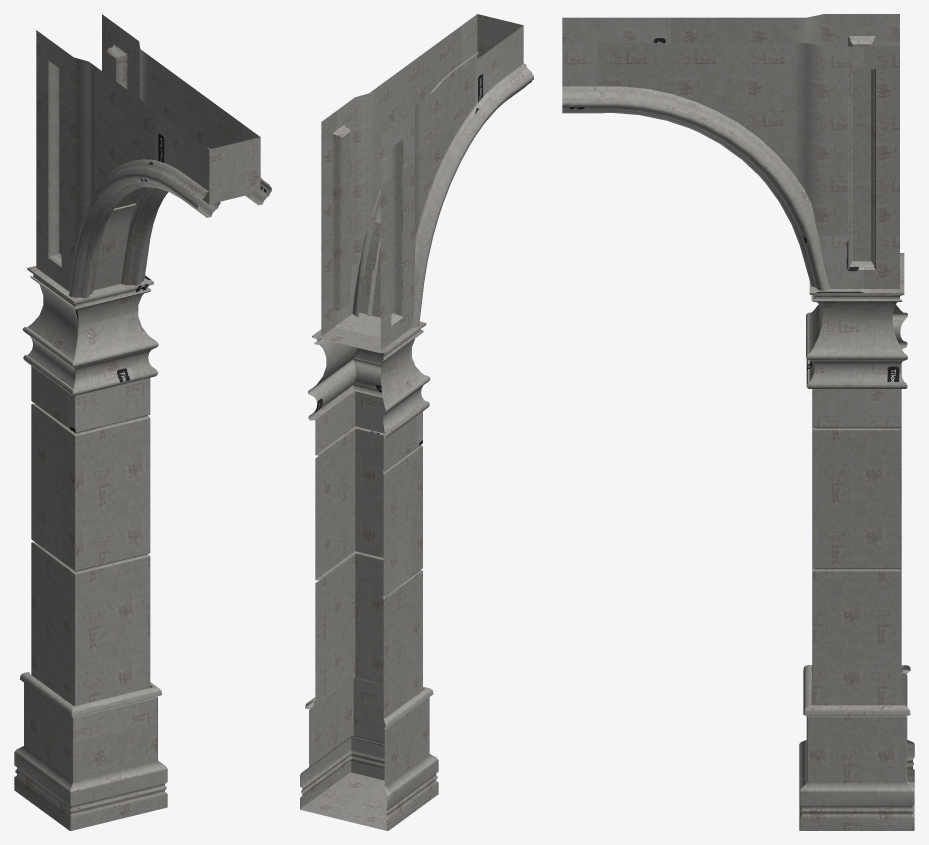
The model's file is corn2100.fbx.
3 views of the same model, side by side, from view 1: azimuth 30°, elevation 25°; view 2: azimuth 150°, elevation 25°; view 3: azimuth 270°, elevation 25° (orthographic). The views are drawn at different scales.
Parts seen in each view (by area): view 1: corn2; view 2: corn2; view 3: corn2.
Boxes of the visible parts, left/top/right/bottom form: corn2: left=14, top=14, right=271, bottom=830; corn2: left=300, top=14, right=533, bottom=830; corn2: left=562, top=14, right=914, bottom=830.
Bounding box in the file's own units: 53.91 × 400 × 165.
